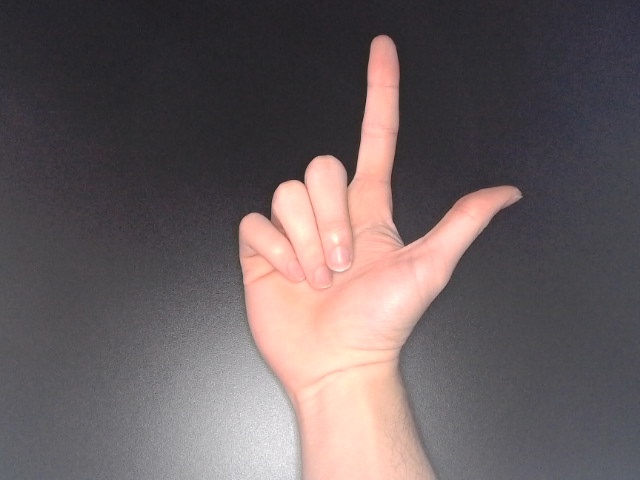l: (234, 31, 526, 420)
